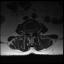CCS_normal: (30, 30, 32, 38)
LFS_stenosis: (34, 29, 36, 34)
LLS_stenosis: (32, 29, 34, 36)
RFS_stenosis: (26, 29, 28, 35)
RLS_stenosis: (28, 30, 30, 35)
